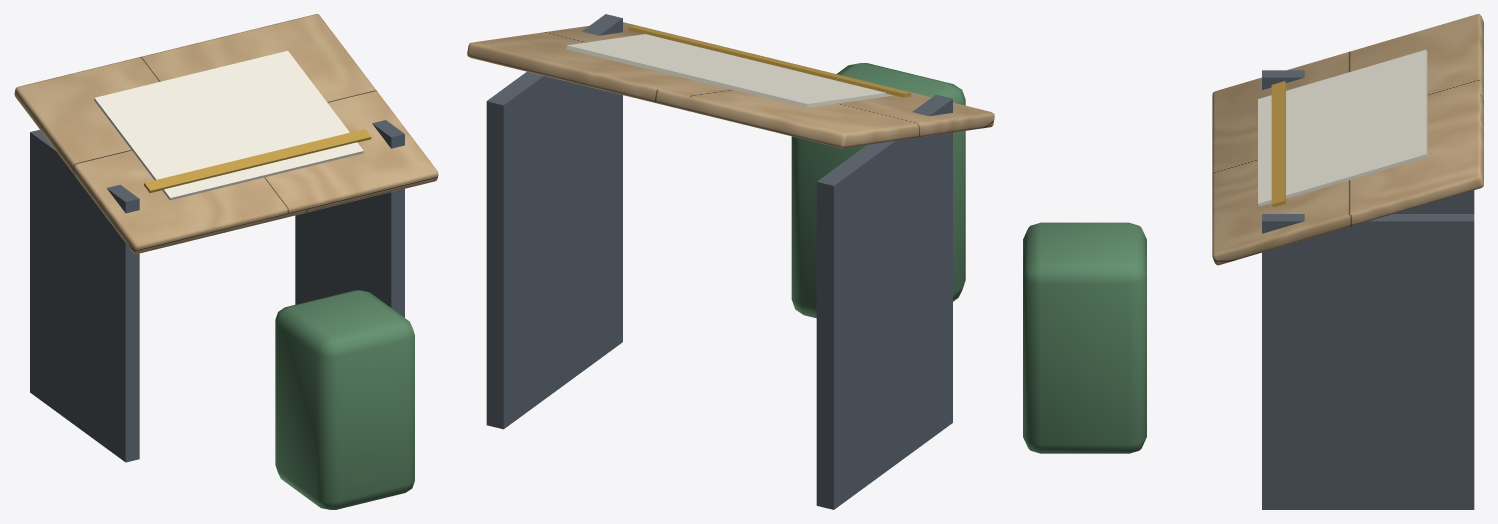
The model's file is drafting_table.gltf.
3 views of the same model, side by side, from view 1: azimuth 30°, elevation 25°; view 2: azimuth 150°, elevation 25°; view 3: azimuth 270°, elevation 25° (orthographic). The views are drawn at different scales.
Parts seen in each view (by area): view 1: drafting_table_mesh; view 2: drafting_table_mesh; view 3: drafting_table_mesh.
Part boxes in pixels (x1,y1,x2,y2): drafting_table_mesh: (14, 14, 438, 509); drafting_table_mesh: (467, 14, 994, 509); drafting_table_mesh: (1023, 14, 1483, 509).
Bounding box in the file's own units: 1.1 × 1.06 × 1.3.
Materials: 5 (1 with a texture image).
